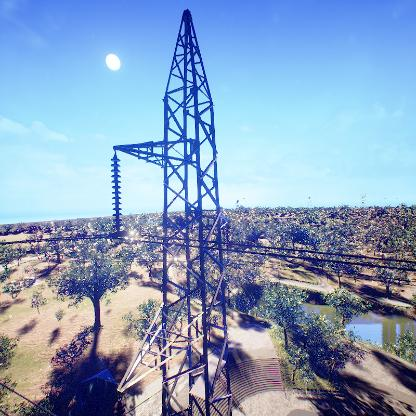insulator: (107, 155, 124, 230)
